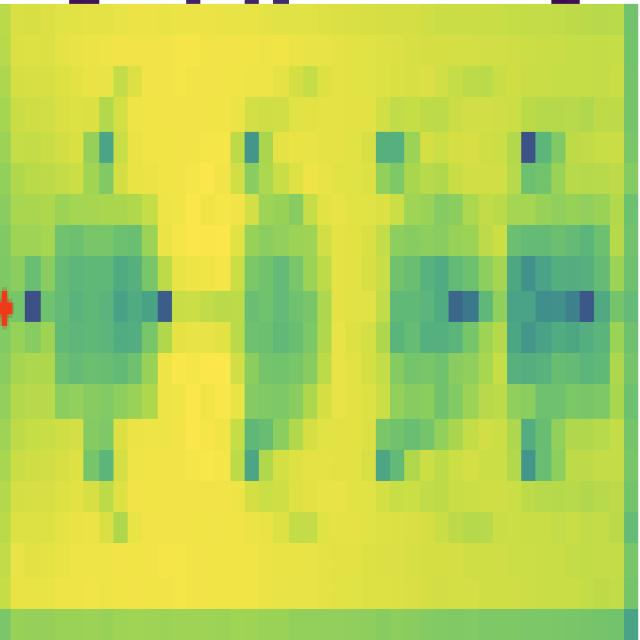Concrete: (237, 193, 330, 449)
Glass: (54, 192, 158, 419)
Metal: (382, 192, 484, 449)
Wood: (509, 194, 609, 449)
